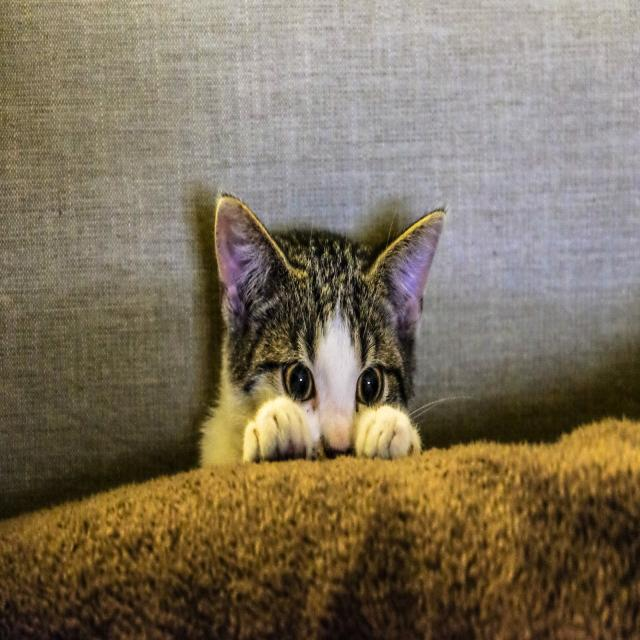Cat: (197, 189, 448, 467)
